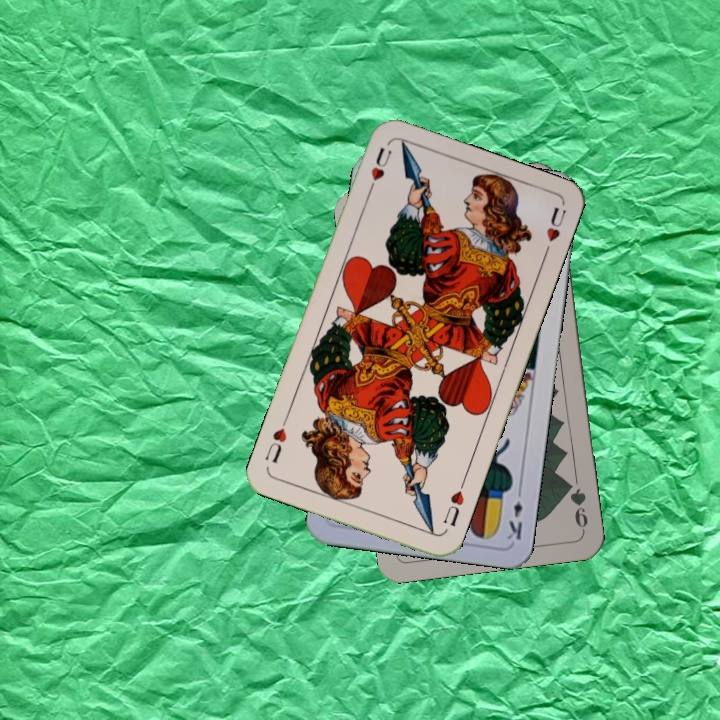EK: (502, 484, 525, 542)
G9: (561, 476, 591, 534)
HU: (364, 143, 395, 198), (439, 477, 468, 530)
